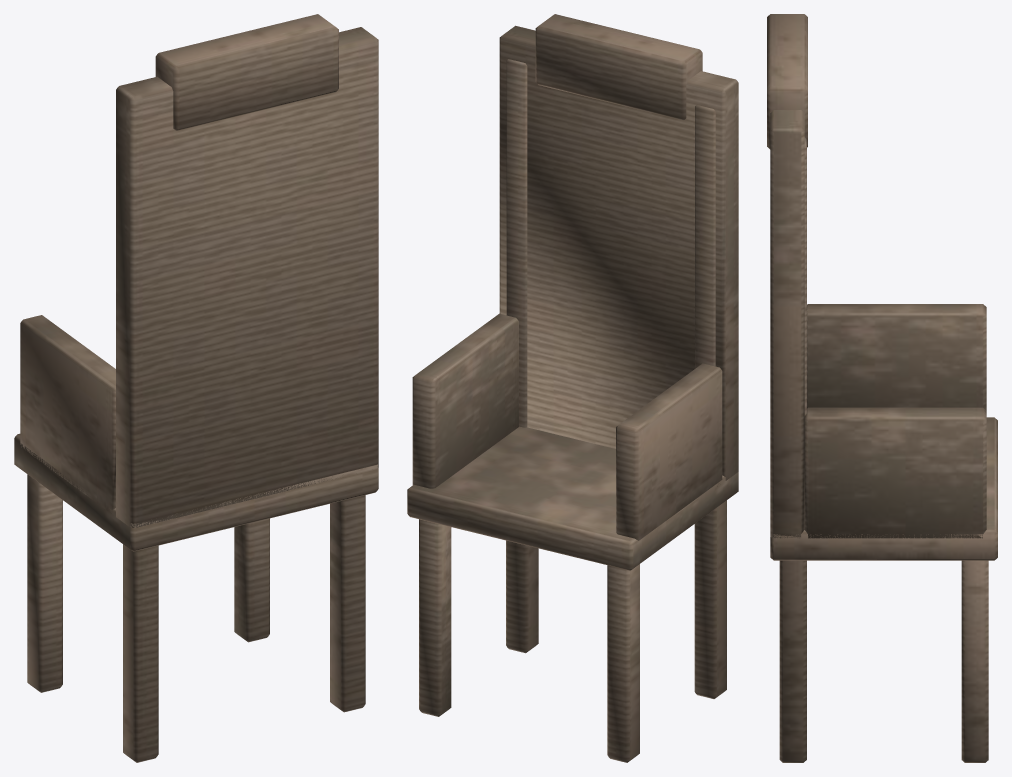
The model's file is ironwood-throne.glb.
The picture shows the model from 3 angles, left to right: view 1: azimuth 30°, elevation 25°; view 2: azimuth 150°, elevation 25°; view 3: azimuth 270°, elevation 25°; orthographic projection. The views are drawn at different scales.
Parts seen in each view (by area): view 1: ironwood_throne; view 2: ironwood_throne; view 3: ironwood_throne.
Part boxes in pixels (x1,y1,x2,y2): ironwood_throne: [14, 14, 378, 762]; ironwood_throne: [407, 14, 738, 762]; ironwood_throne: [767, 14, 997, 762].
Bounding box in the file's own units: 1.2 × 3.2 × 1.01.
1 material, 1 textured.
